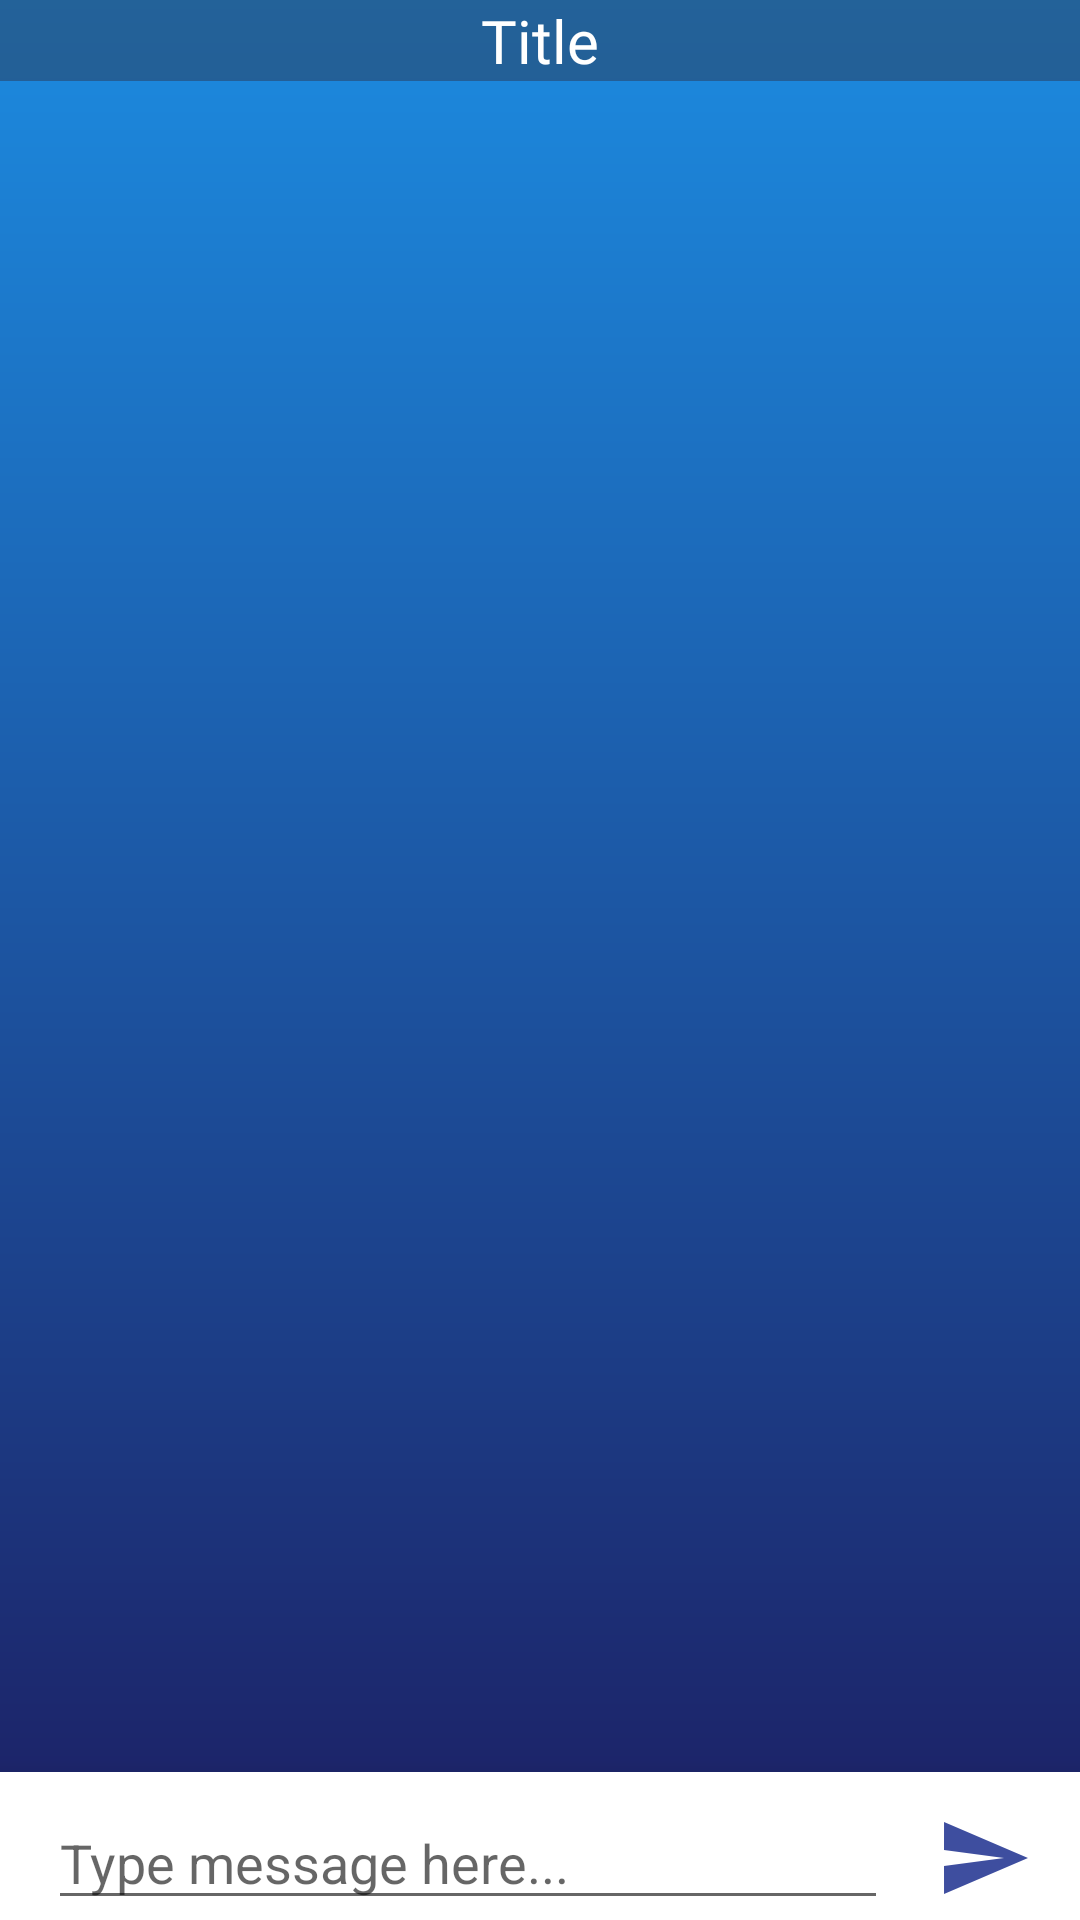

Icons on this 1080px×1920px Android screen, each with the point to tap as (x=x, y=y):
send: (x=986, y=1858)
